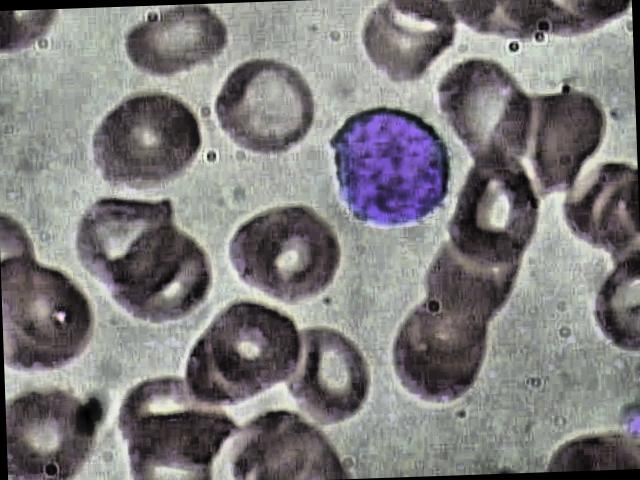Platelets: (620, 398, 640, 441)
RBC: (82, 81, 214, 196), (220, 196, 354, 309), (374, 305, 508, 418), (74, 188, 189, 310), (430, 52, 546, 167), (440, 159, 556, 274), (210, 58, 324, 168), (92, 3, 228, 88), (0, 266, 101, 373), (280, 329, 382, 432), (353, 0, 467, 92), (200, 301, 304, 396), (4, 384, 105, 480)
WBC: (326, 106, 449, 236)
